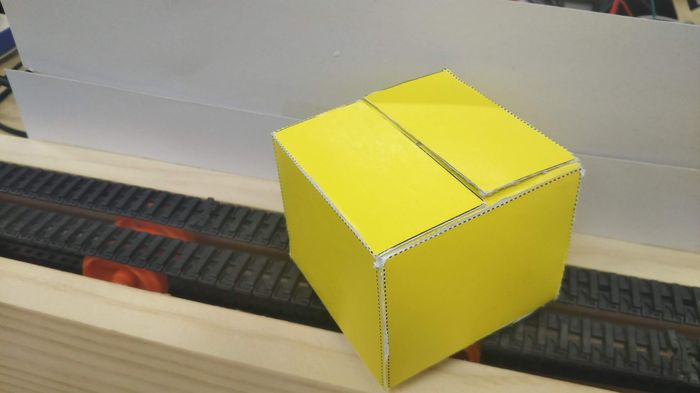box4: (271, 65, 582, 393)
